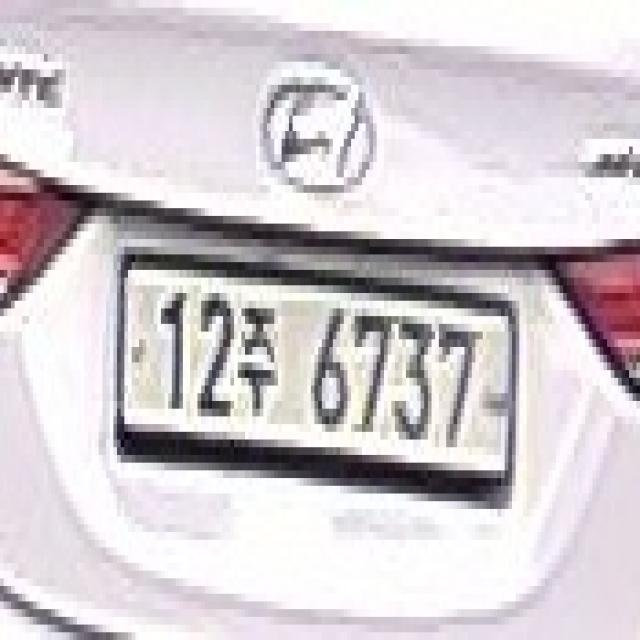1: (157, 278, 190, 424)
2: (194, 286, 238, 440)
3: (391, 308, 439, 439)
6: (307, 293, 355, 455)
7: (432, 308, 490, 455), (351, 308, 395, 448)
ju: (238, 301, 278, 424)
license_plate: (106, 231, 523, 532)
